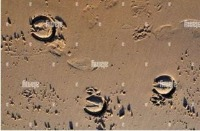animal_footprint: (29, 15, 66, 42), (150, 75, 176, 105), (84, 87, 106, 115)
